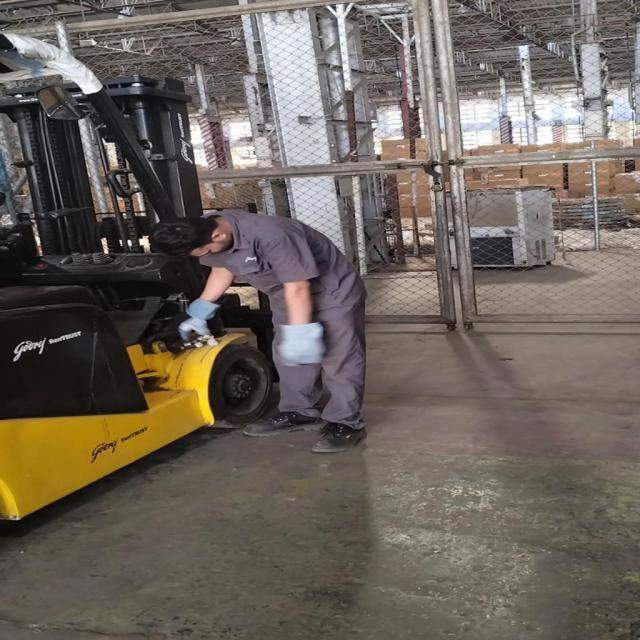Gloves-Detection: (279, 327, 320, 372), (176, 294, 208, 339)
